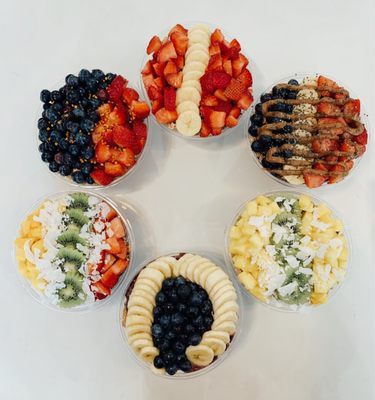sushi: (120, 251, 243, 380), (225, 192, 352, 311), (13, 190, 135, 313), (36, 65, 152, 190), (140, 23, 256, 146)
